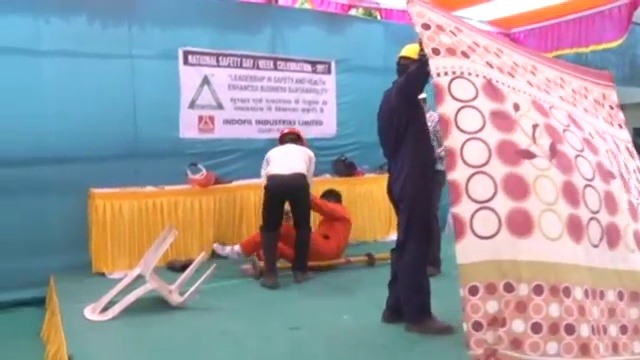helmet: (278, 126, 310, 146), (394, 38, 422, 59)
helmet_off: (318, 188, 344, 207)
helmet_on: (393, 38, 422, 78), (276, 127, 307, 149)
person: (377, 38, 456, 336), (212, 188, 353, 275), (260, 128, 316, 292), (416, 90, 451, 280)
